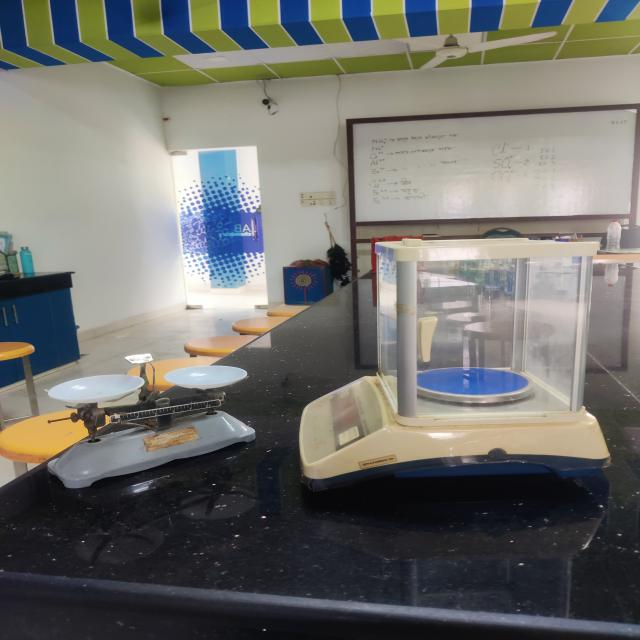Mechanical_Balance_Scale: (24, 354, 270, 500)
Precision_Weight_Scale: (284, 189, 640, 526)
